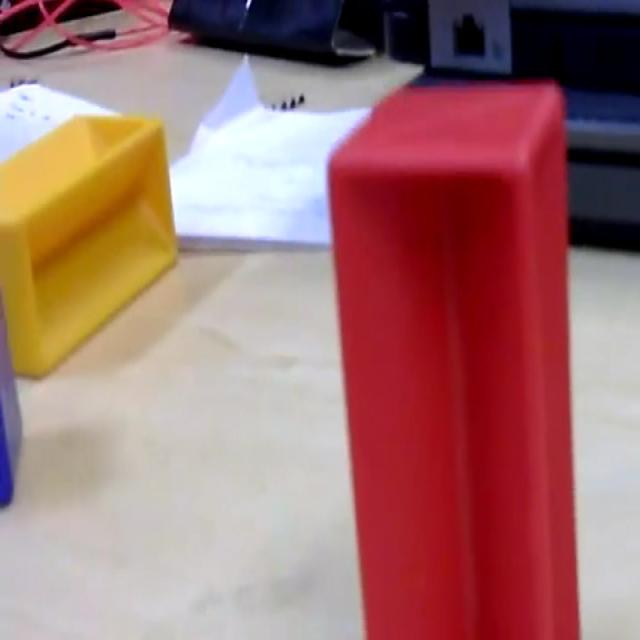red_block: (325, 77, 581, 636)
yellow_block: (0, 109, 179, 379)
